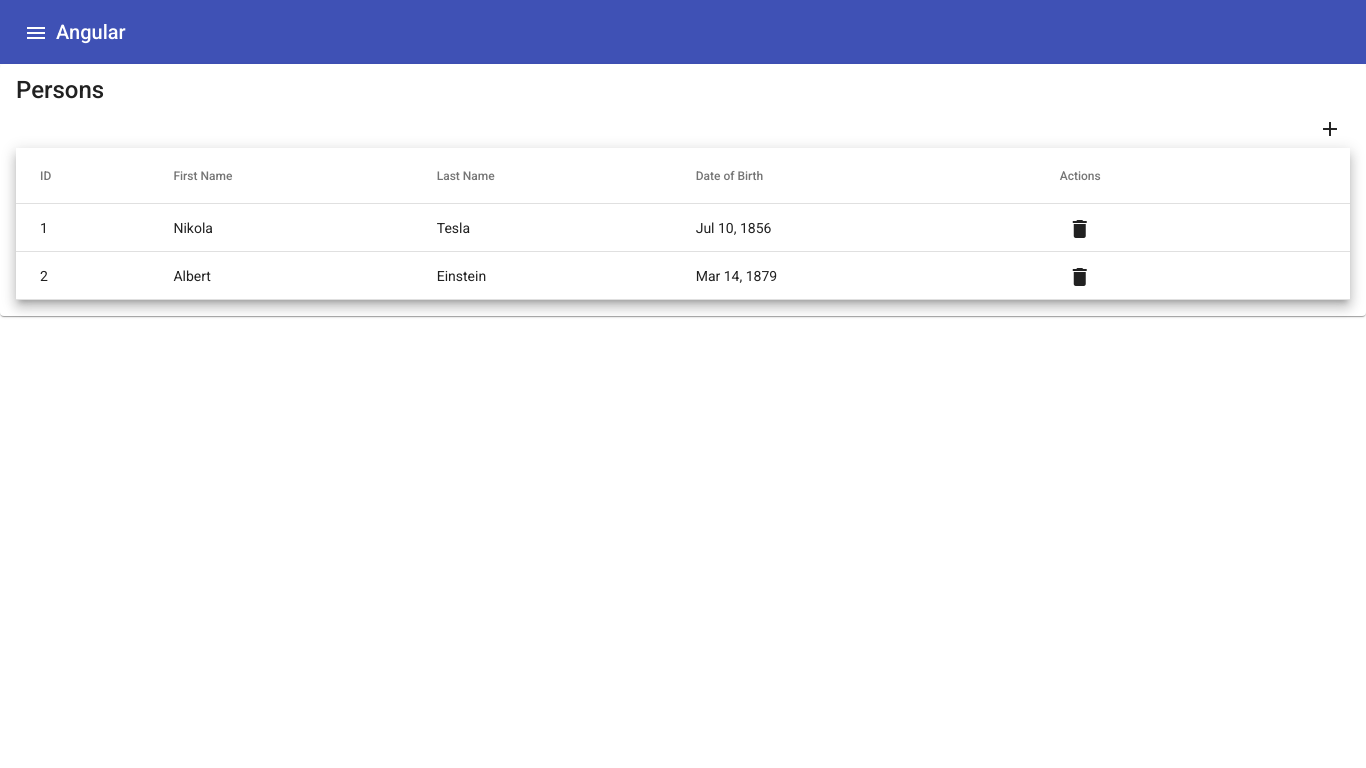
persons test › delete person nikola tesla
What coordinates should you click on to do the following:
click the button without text in the row of "Nikola"
I would click on:
 (1080, 228)
Its box is [1060,208,1100,248].
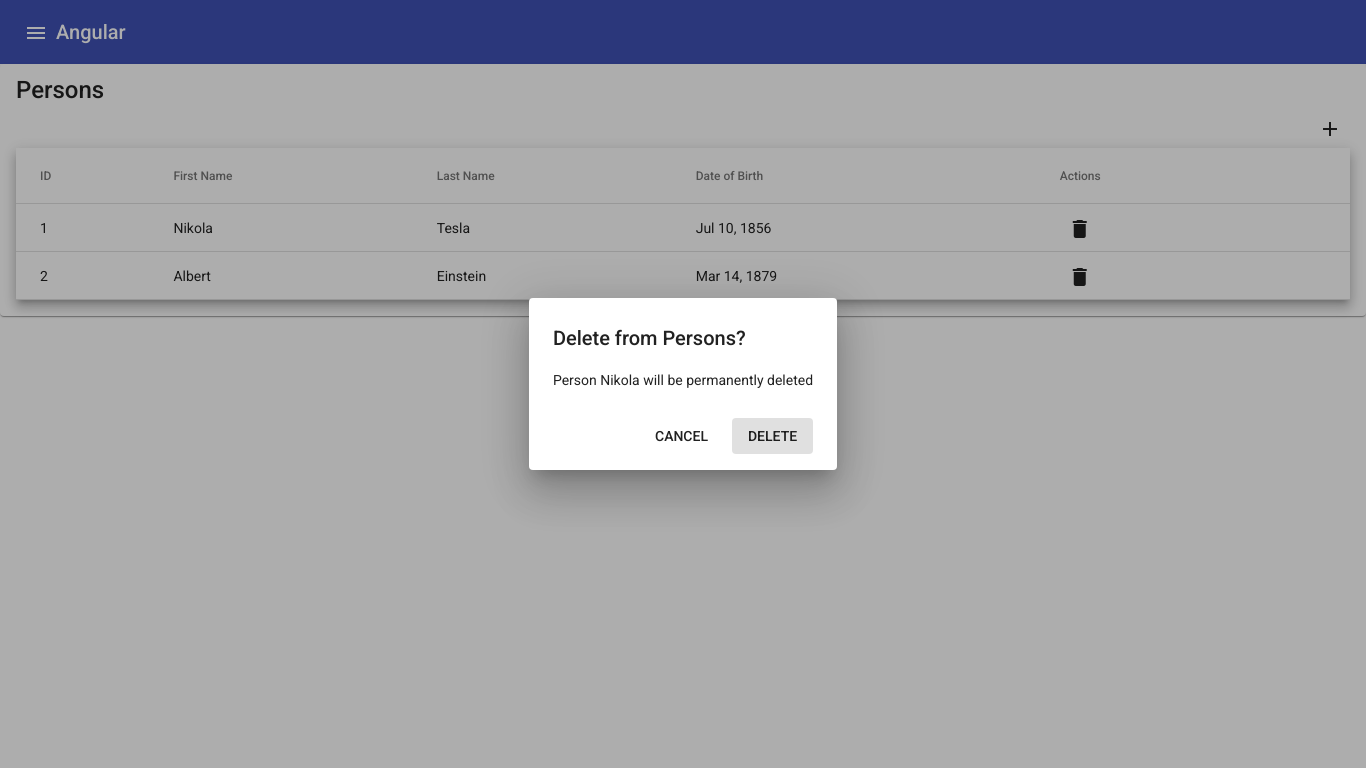
What coordinates should you click on to do the following:
click the button "DELETE"
I would click on:
 (773, 436)
Its box is [732,418,813,454].
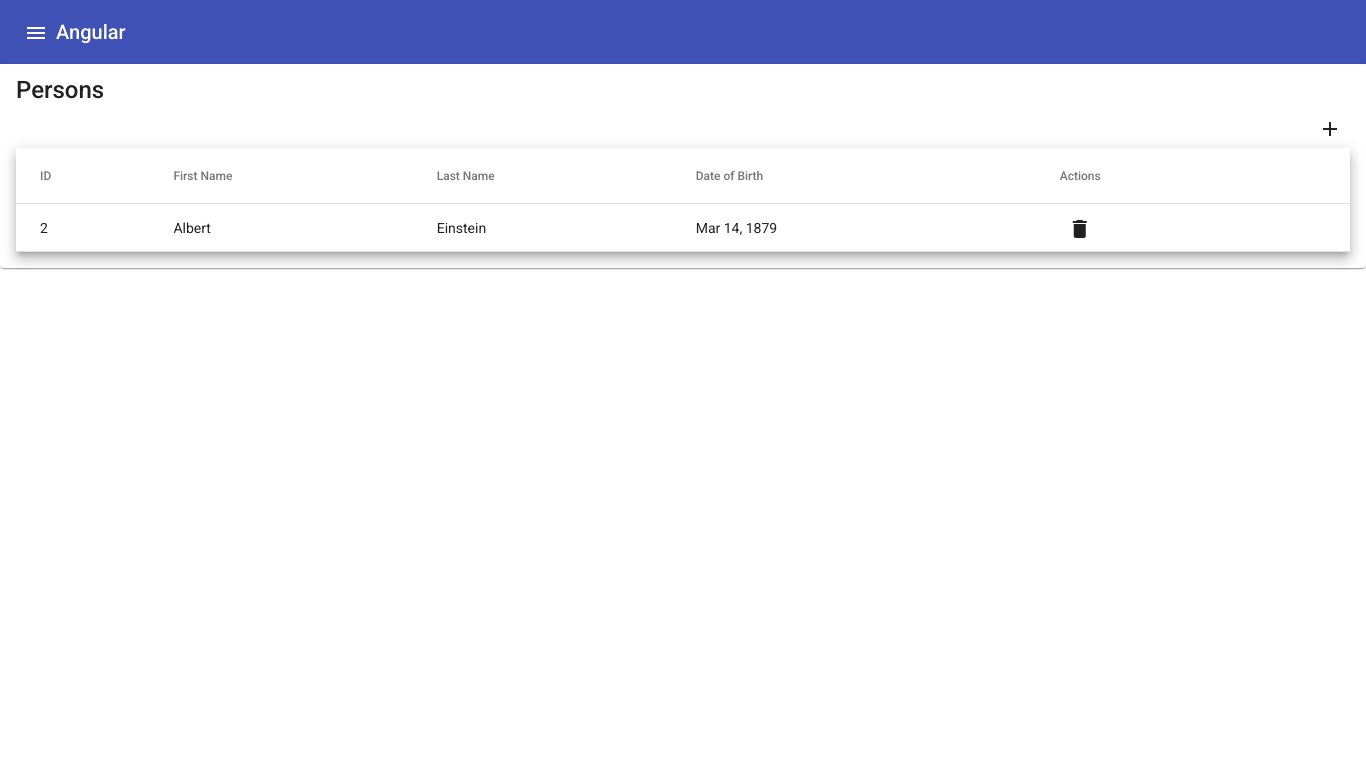
Expected: the text "Nikola" is gone
Expected: the text "Tesla" is gone
